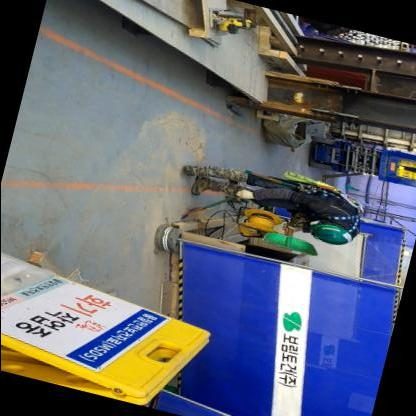Helmet: (305, 218, 356, 251)
safety-shoe: (180, 170, 217, 204)
